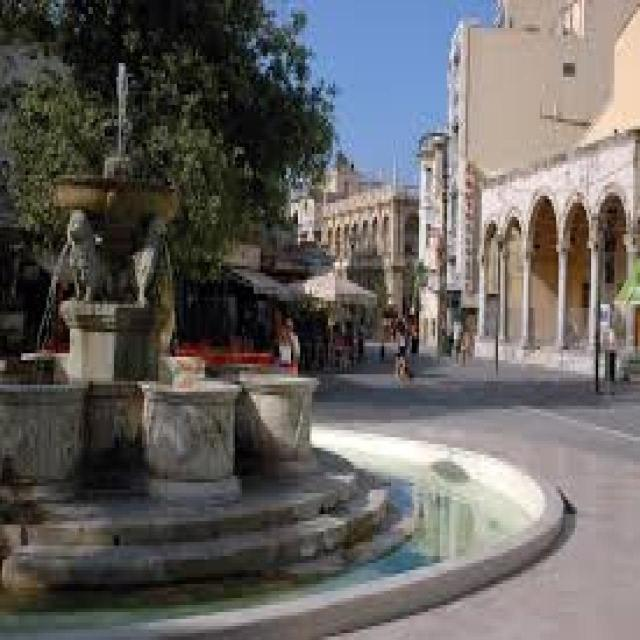Liontaria: (2, 98, 326, 511)
